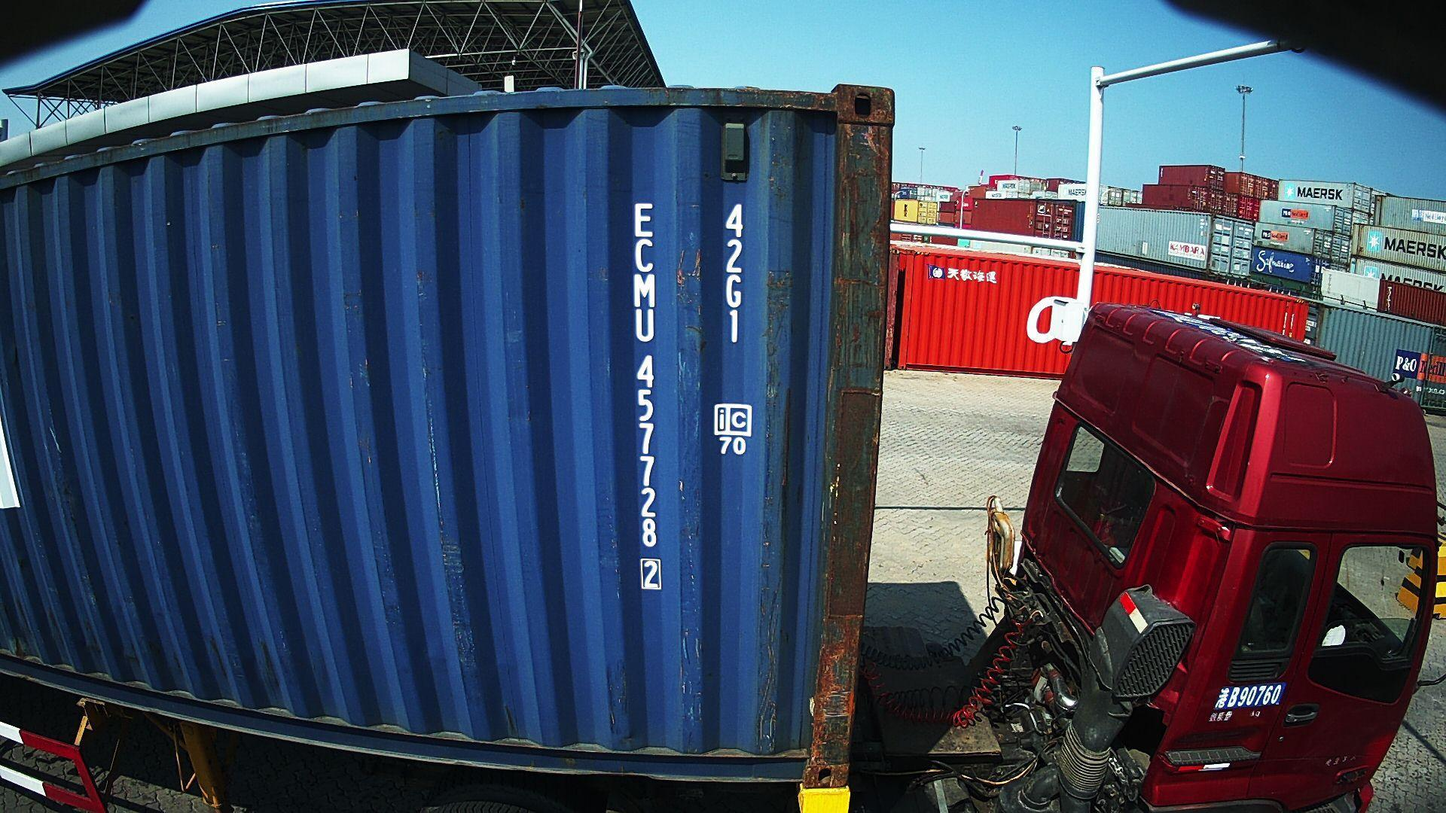container-numbers: (629, 196, 664, 593), (722, 199, 749, 349)
